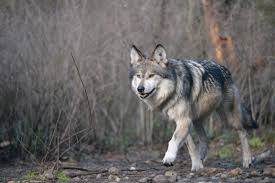wolf: (122, 44, 258, 172)
